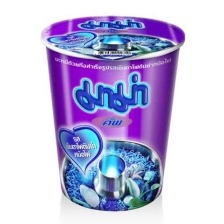paper_cup: (35, 8, 189, 215)
